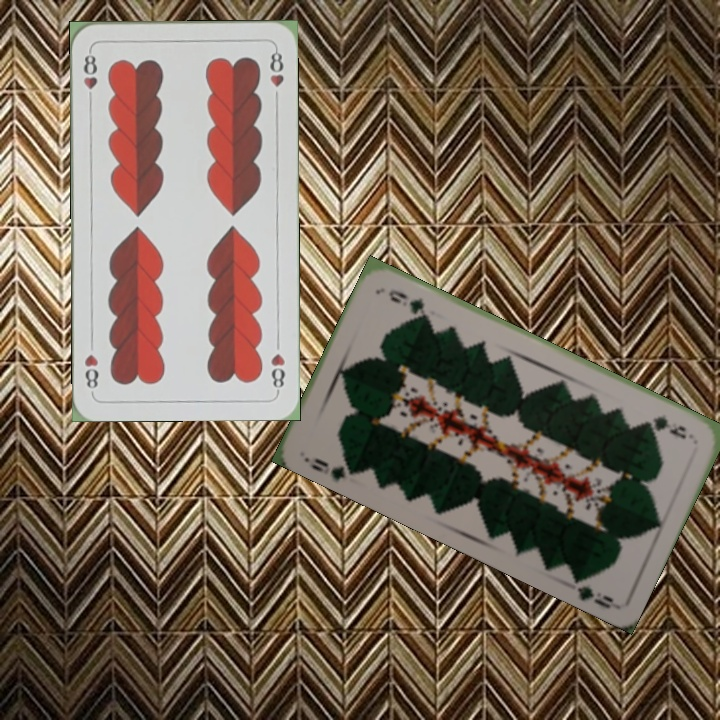G9: (306, 454, 360, 484), (641, 411, 689, 442)
H8: (266, 335, 287, 394), (80, 46, 100, 105)
